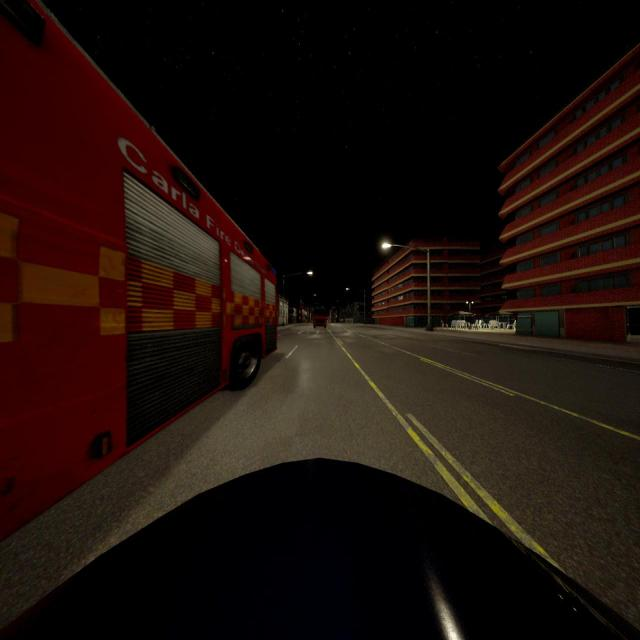Vehicle: (0, 1, 275, 535), (0, 461, 640, 640), (314, 311, 326, 328)
